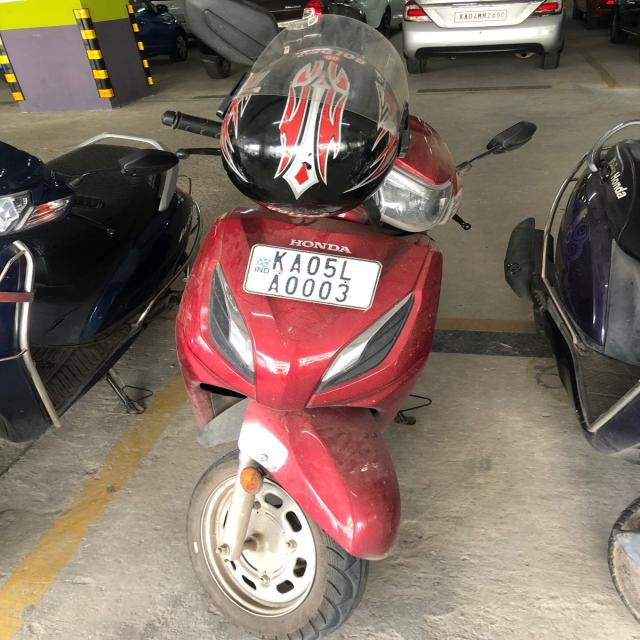number plate: (241, 243, 382, 310)
